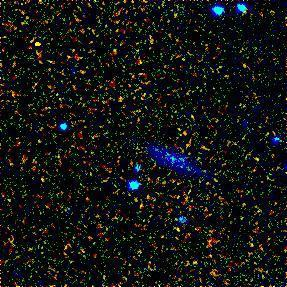star: (22, 28, 52, 58)
